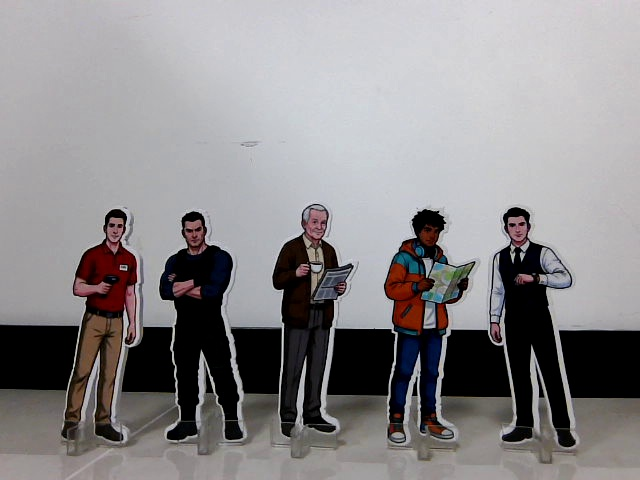community_person: (483, 199, 590, 470), (379, 202, 476, 467), (266, 196, 362, 463), (61, 198, 146, 458)
outsider: (152, 203, 256, 463)
